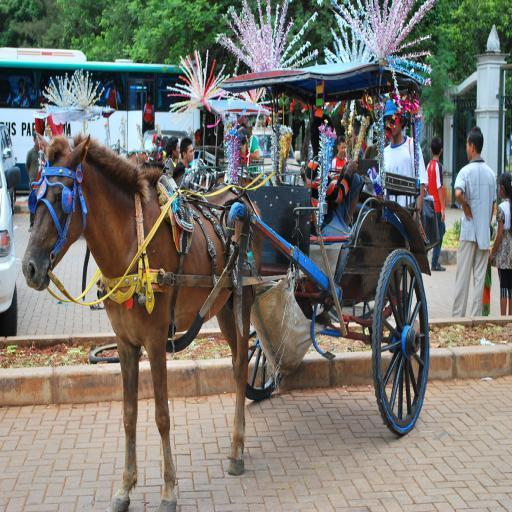horse: (22, 128, 262, 512)
